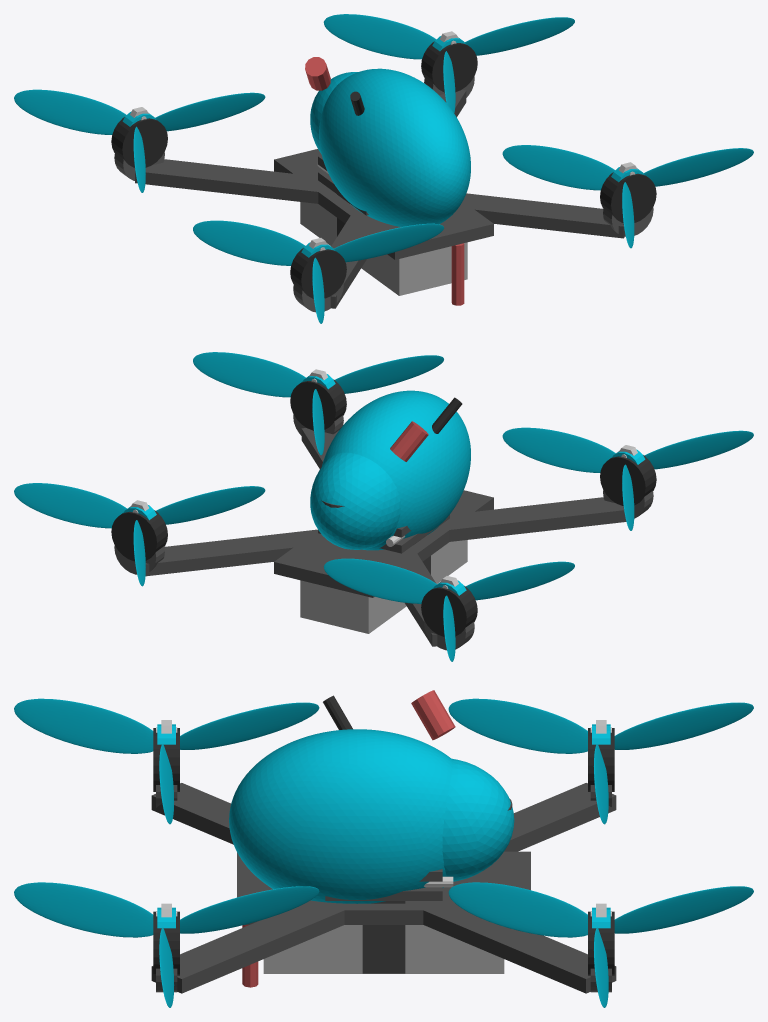
3 renders of one model, top to bottom at view 1: azimuth 30°, elevation 25°; view 2: azimuth 150°, elevation 25°; view 3: azimuth 270°, elevation 25°, orthographic. The views are drawn at different scales.
Parts seen in each view (by area): view 1: mat_plastic_canopy, mat_carbon_frame, prop_mat_plastic_3, prop_mat_plastic_0, prop_mat_plastic_2, prop_mat_plastic_1, mat_batt_body, mat_metal_bell_0, mat_metal_bell_1, mat_metal_bell_2, mat_metal_bell_3, mat_wire_red (+1 smaller); view 2: mat_plastic_canopy, mat_carbon_frame, prop_mat_plastic_1, prop_mat_plastic_3, prop_mat_plastic_2, prop_mat_plastic_0, mat_batt_body, mat_metal_bell_0, mat_metal_bell_3, mat_metal_bell_1, mat_metal_bell_2, mat_plastic_antennatip; view 3: mat_plastic_canopy, mat_carbon_frame, prop_mat_plastic_1, prop_mat_plastic_0, prop_mat_plastic_2, prop_mat_plastic_3, mat_batt_body, mat_fabric_strap, mat_plastic_antennatip, mat_metal_bell_0, mat_metal_bell_3, mat_metal_bell_1 (+2 smaller).
Boxes of the visible parts, x1=… form: mat_plastic_canopy: x1=310, y1=68, x2=470, y2=226; mat_carbon_frame: x1=135, y1=90, x2=624, y2=308; prop_mat_plastic_3: x1=193, y1=220, x2=444, y2=323; prop_mat_plastic_0: x1=502, y1=145, x2=753, y2=248; prop_mat_plastic_2: x1=14, y1=89, x2=265, y2=192; prop_mat_plastic_1: x1=323, y1=14, x2=574, y2=112; mat_batt_body: x1=300, y1=202, x2=467, y2=295; mat_metal_bell_0: x1=600, y1=172, x2=656, y2=222; mat_metal_bell_1: x1=421, y1=41, x2=477, y2=92; mat_metal_bell_2: x1=111, y1=117, x2=167, y2=167; mat_metal_bell_3: x1=290, y1=248, x2=346, y2=298; mat_wire_red: x1=451, y1=243, x2=464, y2=305; mat_plastic_canopy: x1=310, y1=390, x2=470, y2=550; mat_carbon_frame: x1=145, y1=428, x2=626, y2=646; prop_mat_plastic_1: x1=14, y1=483, x2=265, y2=586; prop_mat_plastic_3: x1=502, y1=427, x2=753, y2=530; prop_mat_plastic_2: x1=323, y1=558, x2=574, y2=661; prop_mat_plastic_0: x1=193, y1=352, x2=443, y2=455; mat_batt_body: x1=300, y1=540, x2=467, y2=633; mat_metal_bell_0: x1=290, y1=379, x2=346, y2=430; mat_metal_bell_3: x1=600, y1=455, x2=656, y2=505; mat_metal_bell_1: x1=111, y1=510, x2=167, y2=561; mat_metal_bell_2: x1=421, y1=586, x2=477, y2=636; mat_plastic_antennatip: x1=390, y1=421, x2=428, y2=461; mat_plastic_canopy: x1=229, y1=729, x2=514, y2=903; mat_carbon_frame: x1=151, y1=783, x2=616, y2=993; prop_mat_plastic_1: x1=448, y1=882, x2=753, y2=1007; prop_mat_plastic_0: x1=14, y1=882, x2=319, y2=1007; prop_mat_plastic_2: x1=448, y1=698, x2=753, y2=824; prop_mat_plastic_3: x1=14, y1=698, x2=319, y2=824; mat_batt_body: x1=263, y1=925, x2=504, y2=973; mat_fabric_strap: x1=362, y1=901, x2=405, y2=973; mat_plastic_antennatip: x1=411, y1=690, x2=455, y2=740; mat_metal_bell_0: x1=153, y1=911, x2=179, y2=975; mat_metal_bell_3: x1=153, y1=728, x2=179, y2=791; mat_metal_bell_1: x1=588, y1=911, x2=614, y2=975.
Bounding box in the file's own units: 0.1309 × 0.0522 × 0.1385.
